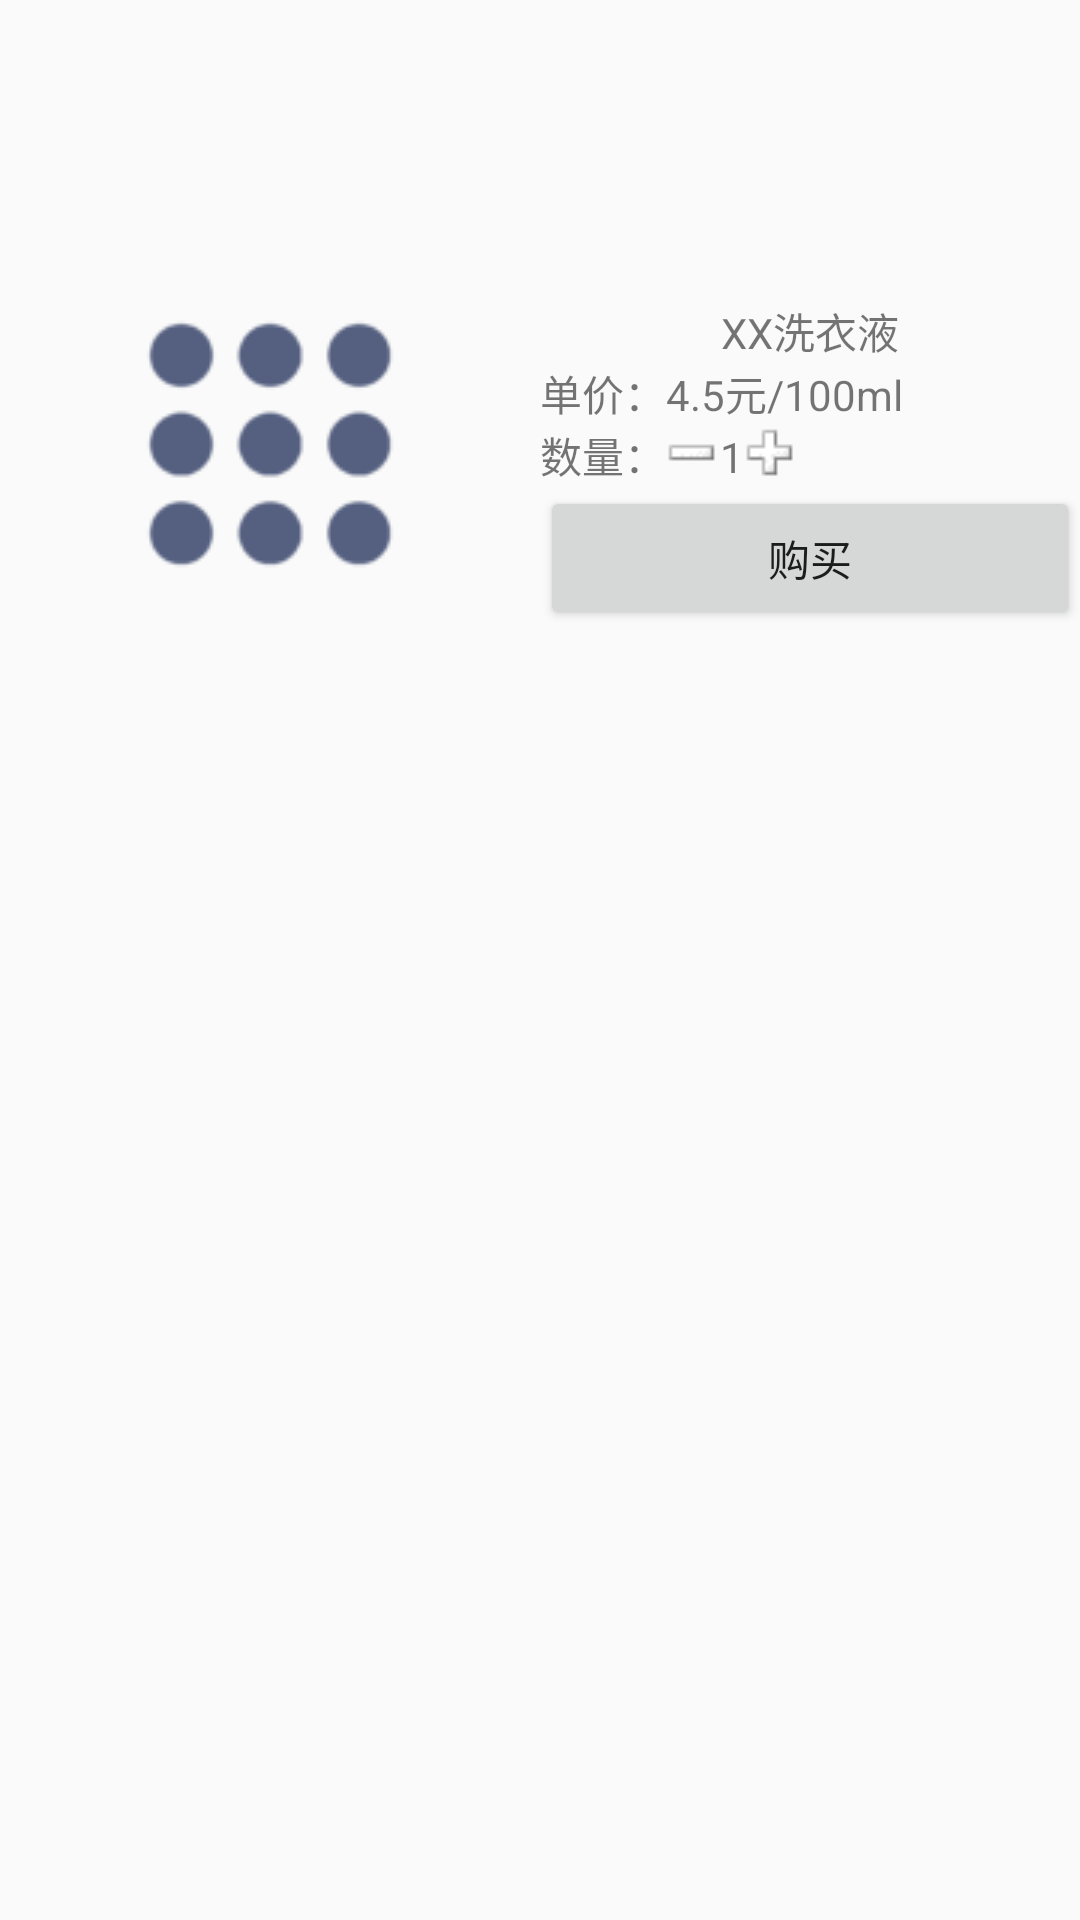

Named icons in this screenshot (1080x1920) and their bounding boxes, (x1, y1, x2, y2):
add: (746, 429, 793, 476)
menu: (149, 323, 391, 565)
sub: (668, 444, 715, 461)
